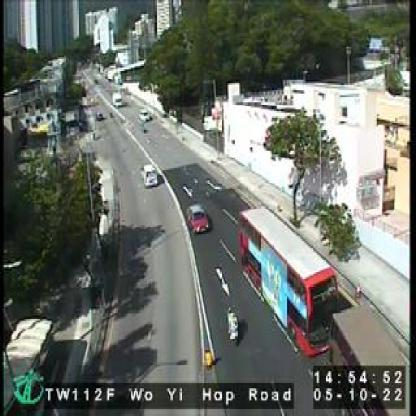Bus: (239, 204, 338, 352)
Car: (184, 203, 210, 230), (140, 161, 158, 184), (138, 110, 149, 122)
